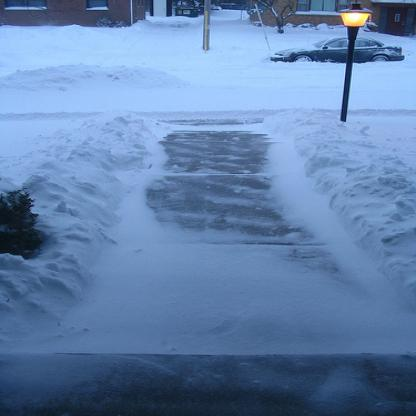car: (269, 37, 405, 64)
